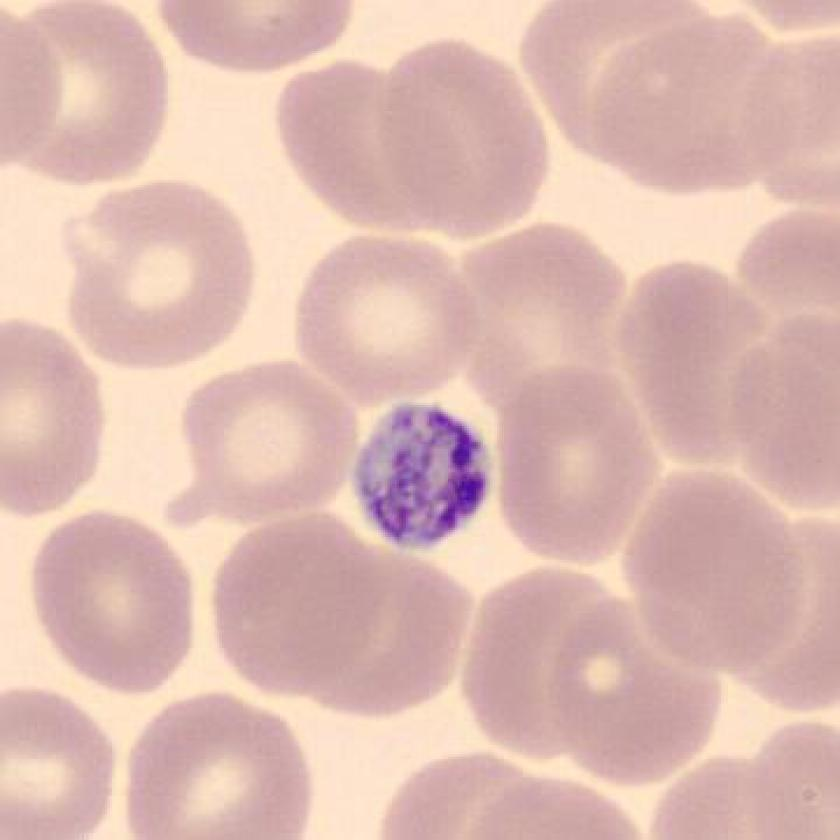platelets: (337, 392, 505, 563)
